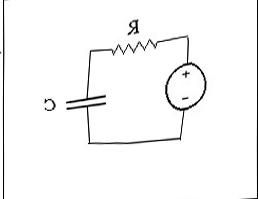Battery: (149, 58, 217, 114)
